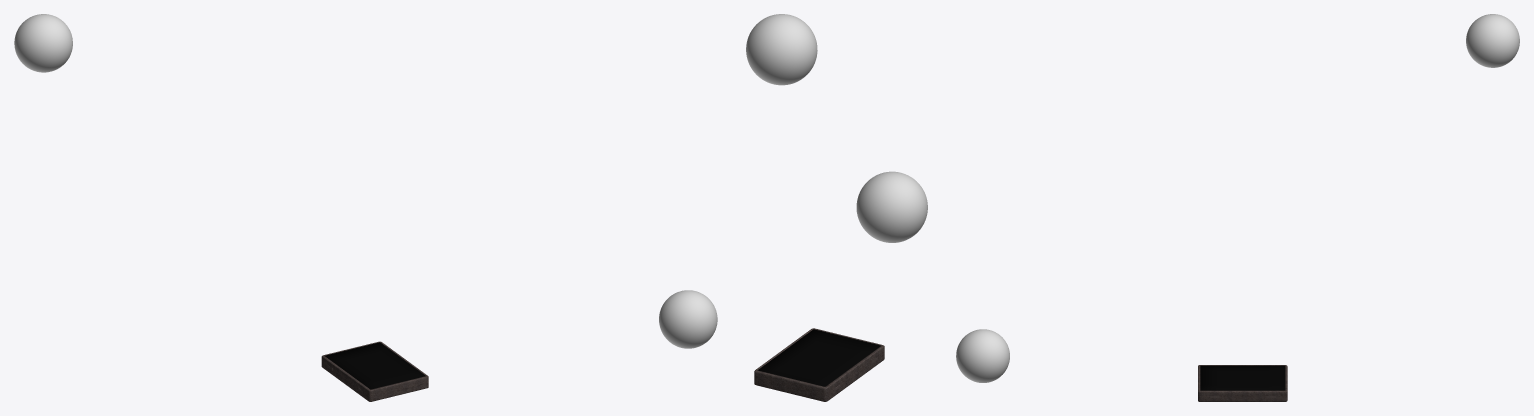
The model's file is colchonaso3.glb.
3 renders of one model, left to right at view 1: azimuth 30°, elevation 25°; view 2: azimuth 150°, elevation 25°; view 3: azimuth 270°, elevation 25°, orthographic. The views are drawn at different scales.
Parts seen in each view (by area): view 1: Sphere (×2), sojamax, Box001; view 2: Sphere (×2), sojamax, Box001; view 3: Sphere (×2), sojamax, Box001.
Part boxes in pixels (bbox=[...]): Sphere (×2): bbox=[14, 14, 717, 348]; sojamax: bbox=[324, 342, 425, 389]; Box001: bbox=[321, 341, 428, 401]; Sphere (×2): bbox=[746, 14, 927, 242]; sojamax: bbox=[757, 329, 880, 386]; Box001: bbox=[754, 328, 884, 401]; Sphere (×2): bbox=[956, 14, 1519, 382]; sojamax: bbox=[1200, 365, 1285, 390]; Box001: bbox=[1198, 365, 1287, 401].
Size of the model in its own units: 0.3699 by 0.2611 by 0.469.
Materials: 6 (5 with a texture image).
